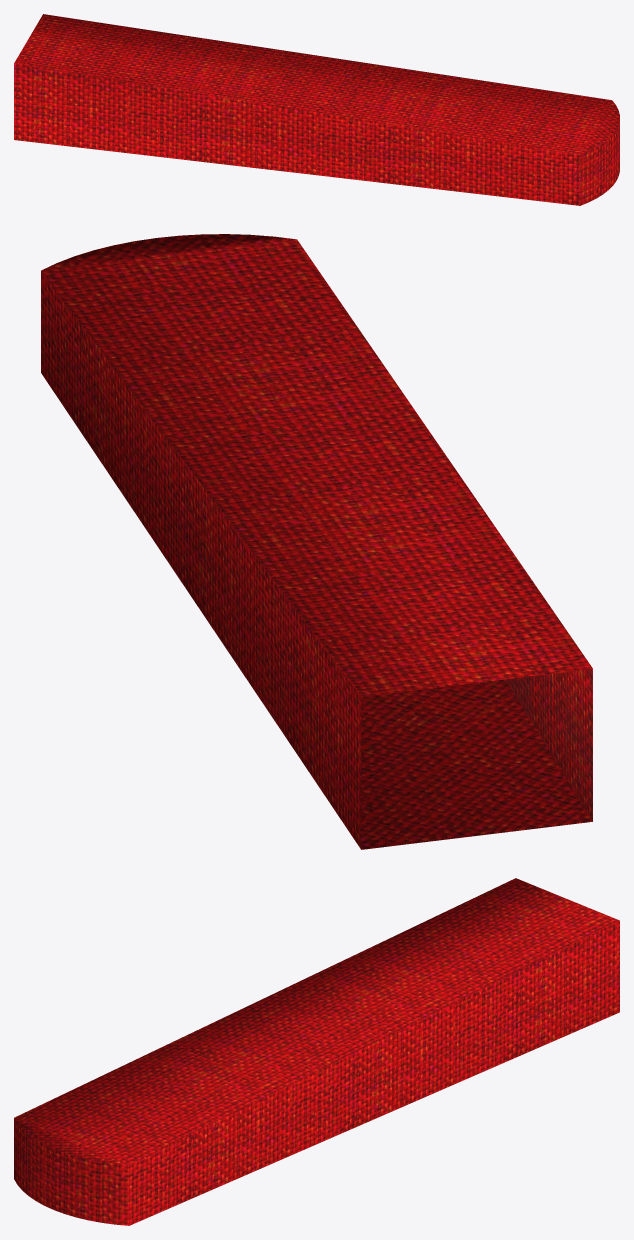
3 renders of one model, top to bottom at view 1: azimuth 30°, elevation 25°; view 2: azimuth 150°, elevation 25°; view 3: azimuth 270°, elevation 25°, orthographic. The views are drawn at different scales.
Bounding box in the file's own units: 0.4004 × 0.067 × 0.4005.
